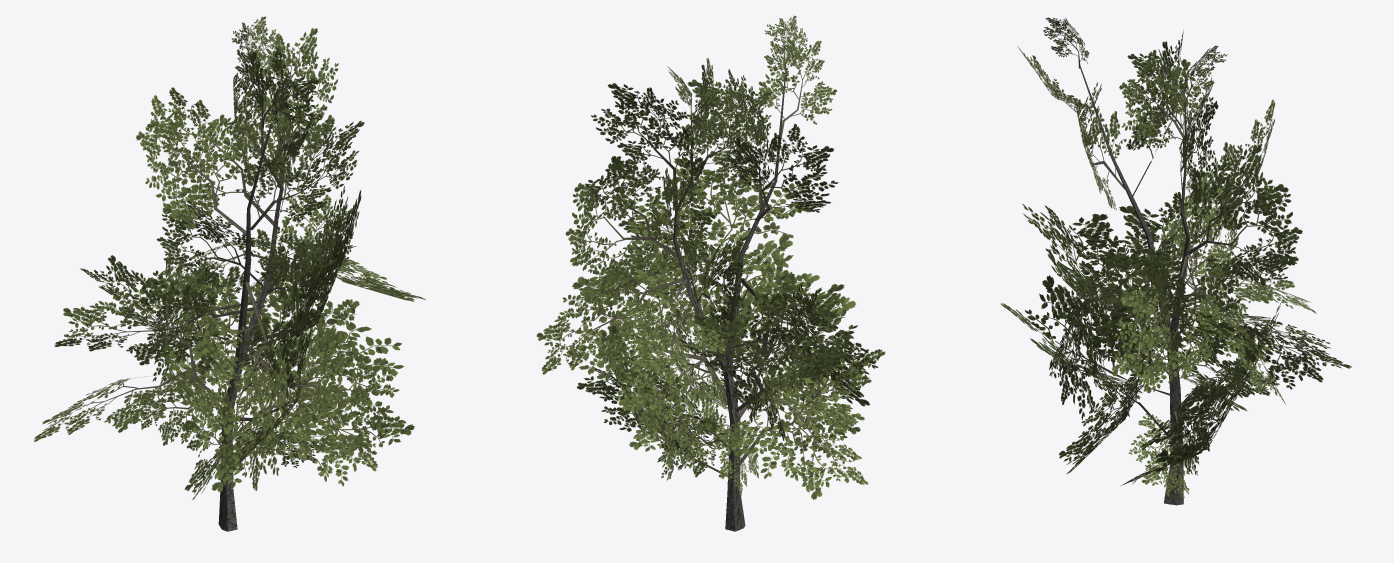
Rendered from Tree4.gltf.
3 renders of one model, left to right at view 1: azimuth 30°, elevation 25°; view 2: azimuth 150°, elevation 25°; view 3: azimuth 270°, elevation 25°, orthographic. The views are drawn at different scales.
Parts seen in each view (by area): view 1: Tree-01-4_3; view 2: Tree-01-4_3; view 3: Tree-01-4_3.
Part boxes in pixels (x1,y1,x2,y2): Tree-01-4_3: (34,16,425,531); Tree-01-4_3: (536,15,885,531); Tree-01-4_3: (1000,17,1351,505).
Bounding box in the file's own units: 142 × 163 × 121.
Materials: 6 (6 with a texture image).
